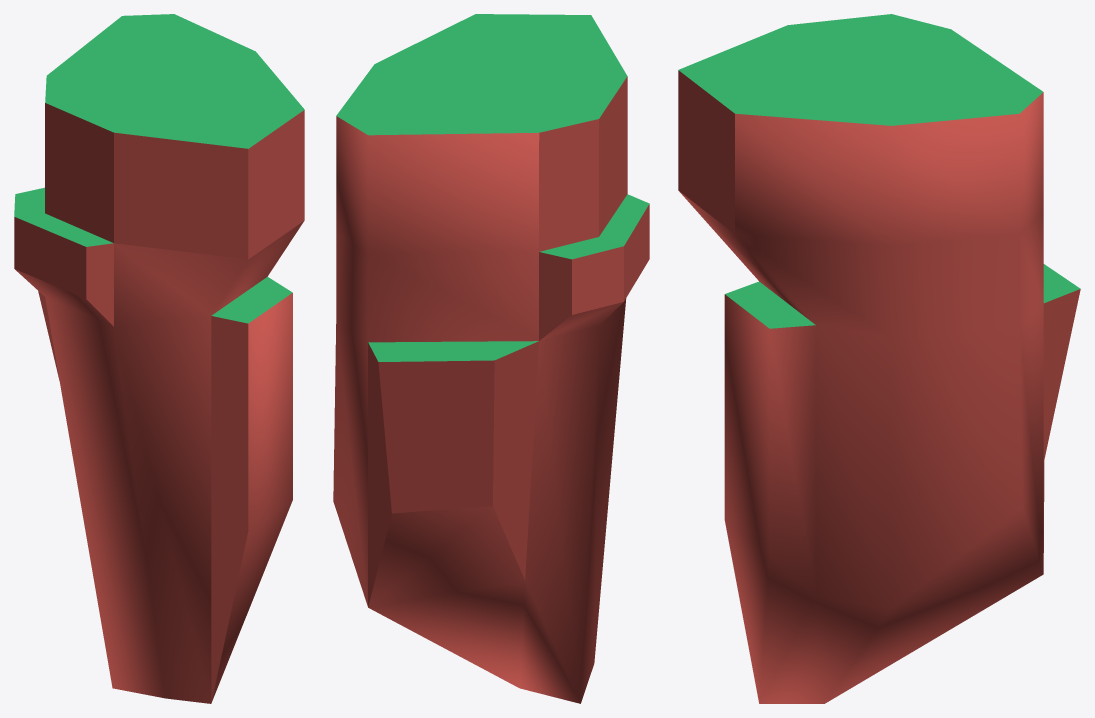
Rendered from lacune.fbx_Cliff002.fbx.
3 renders of one model, left to right at view 1: azimuth 30°, elevation 25°; view 2: azimuth 150°, elevation 25°; view 3: azimuth 270°, elevation 25°, orthographic. The views are drawn at different scales.
Parts seen in each view (by area): view 1: Cliff002; view 2: Cliff002; view 3: Cliff002.
Boxes of the visible parts, x1,y1,x2,y2 form: Cliff002: [14, 14, 304, 703]; Cliff002: [333, 14, 649, 703]; Cliff002: [678, 14, 1080, 703].
Size of what is drawn, in the model's own units: 2328 by 5448 by 3135.
